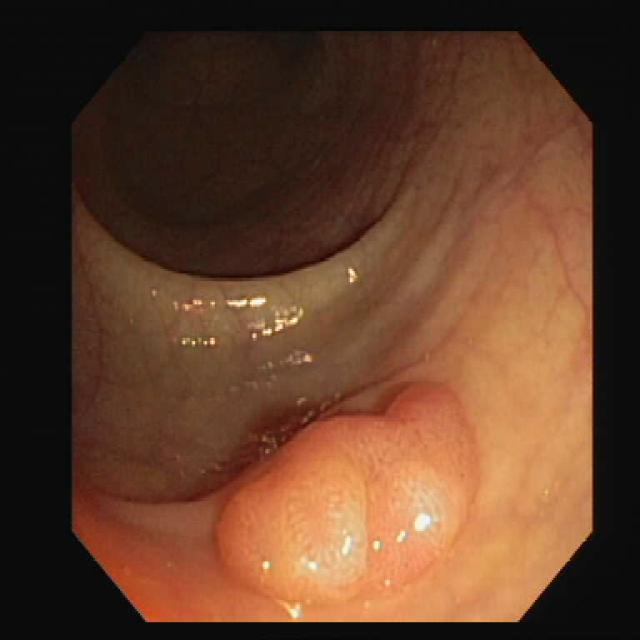tumor: (220, 391, 475, 604)
